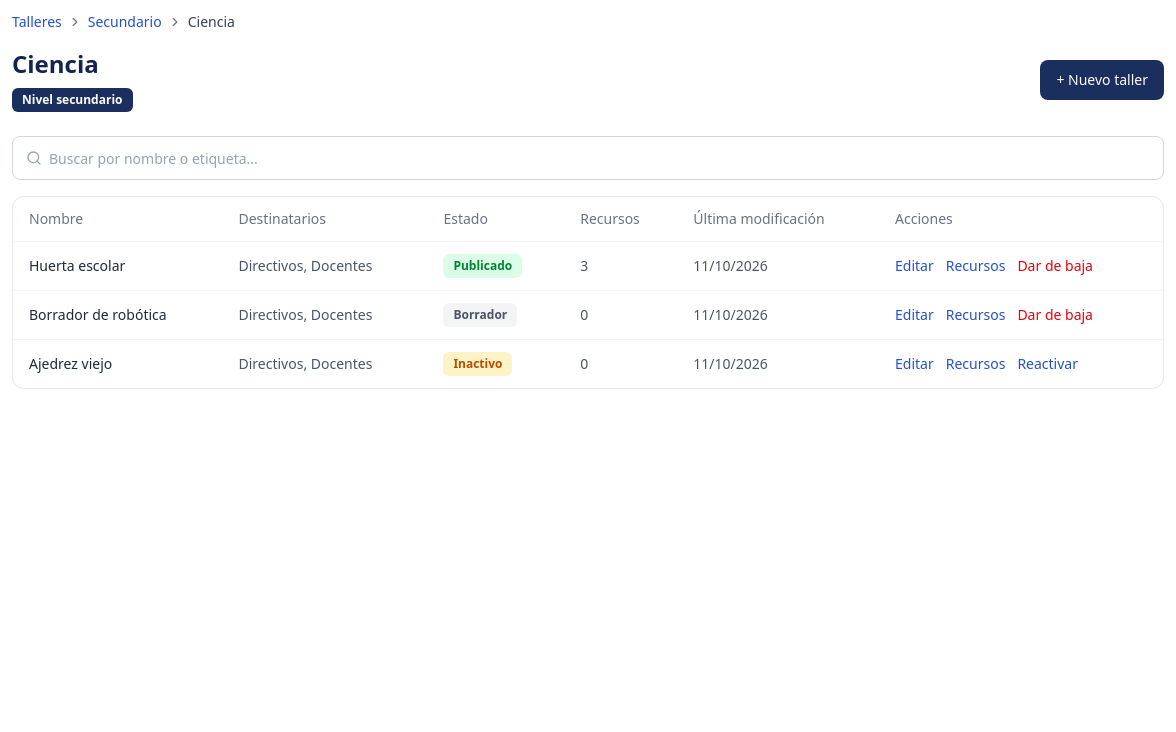
Test case: TalleresListPage: baja y reactivación › si reactivar falla con DA002 muestra "La categoría está dada de baja: reactivala primero"
Expected: the text "Ajedrez viejo" is shown, [13, 340, 222, 388]
Click the button "Reactivar". click: (1048, 364)
box: [1017, 354, 1078, 374]
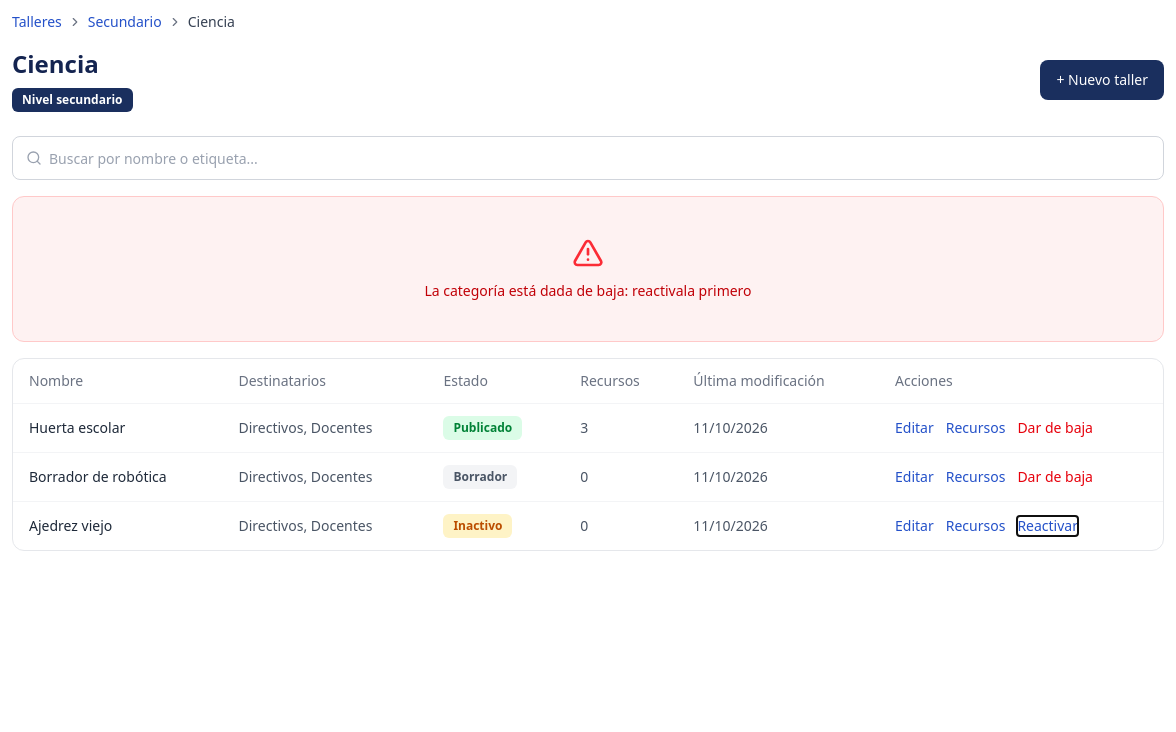
Expected: the text "Inactivo" is shown, [443, 514, 512, 538]
Expected: the text "La categoría está dada de baja: reactivala primero" is shown, [424, 281, 752, 301]
